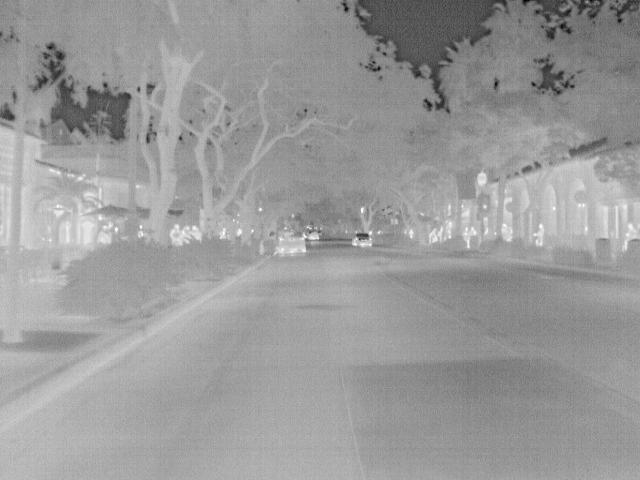car: (274, 227, 307, 257), (352, 230, 374, 248), (303, 226, 321, 241)
person: (622, 220, 640, 253), (169, 222, 186, 245), (533, 222, 547, 248)
